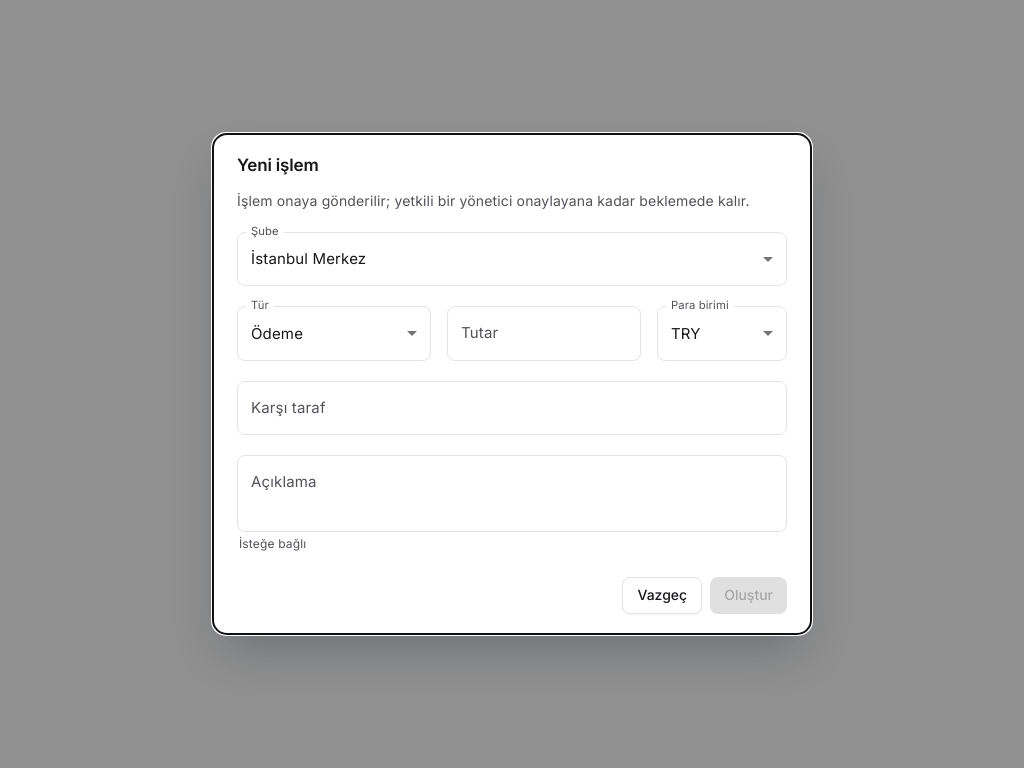
Test: new transaction dialog › keeps the button disabled until an amount is entered
Check: the button "Oluştur" is disabled, box [710,577,787,614]
Type "5" into the number field labelled "Tutar" at coordinates (544, 334), box [447,306,641,361]
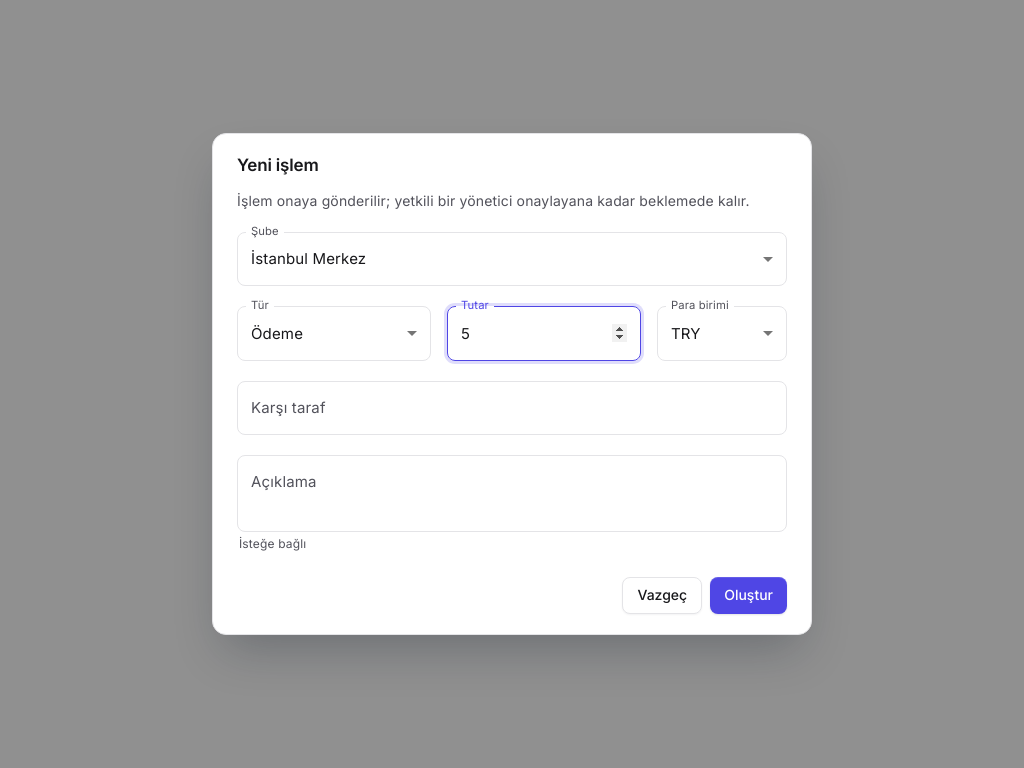
Check: the button "Oluştur" is enabled, box [710,577,787,614]
